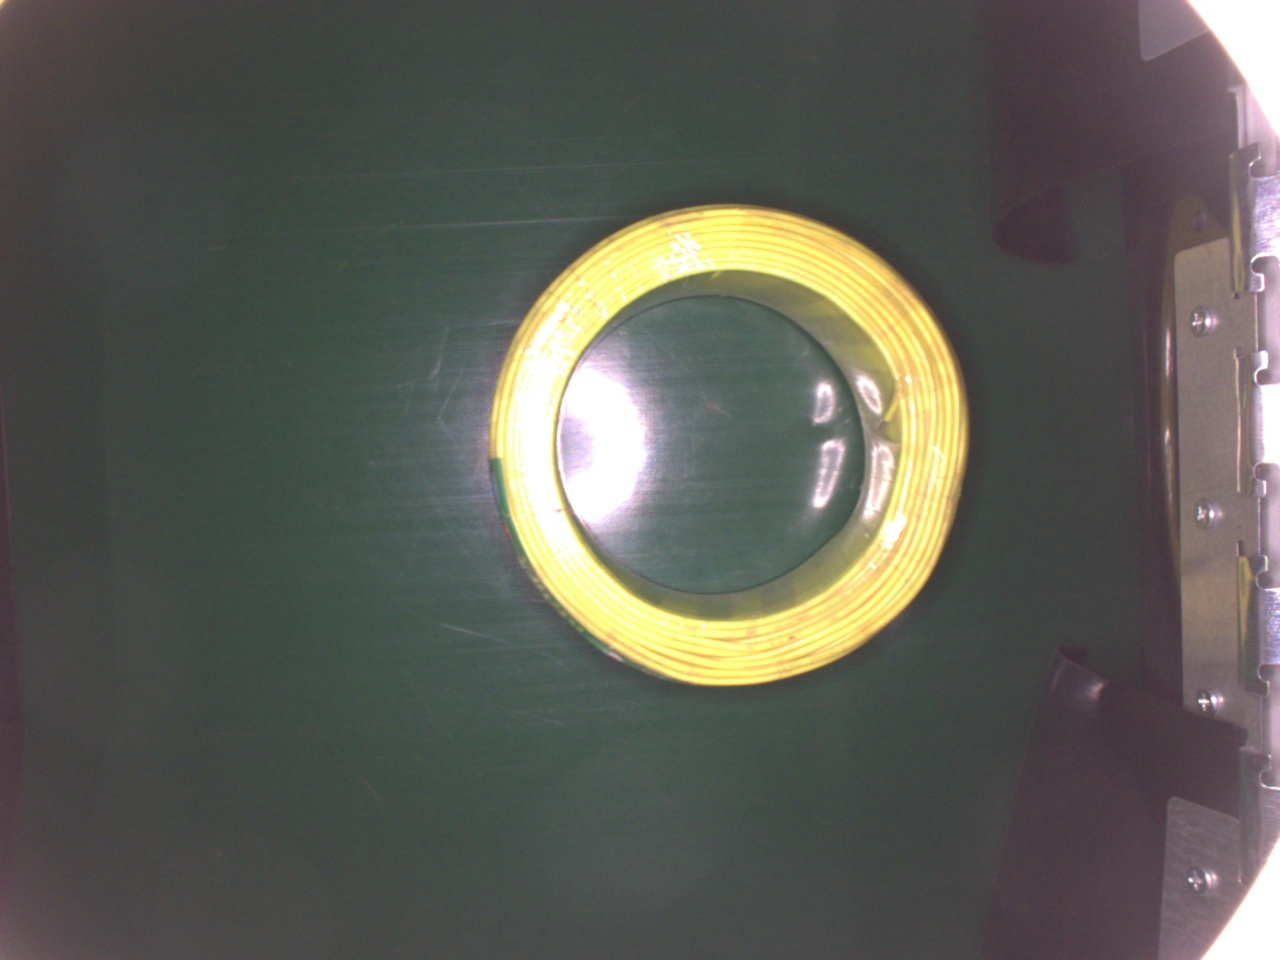yellow: (484, 202, 971, 689)
